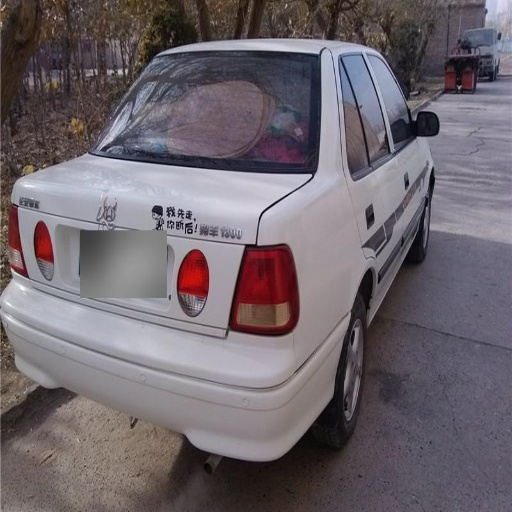back_bumper: (2, 272, 355, 459)
back_right_door: (341, 54, 396, 274)
tailgate: (18, 173, 228, 332), (186, 168, 305, 242)
trunk: (28, 158, 256, 338), (144, 338, 319, 383)
